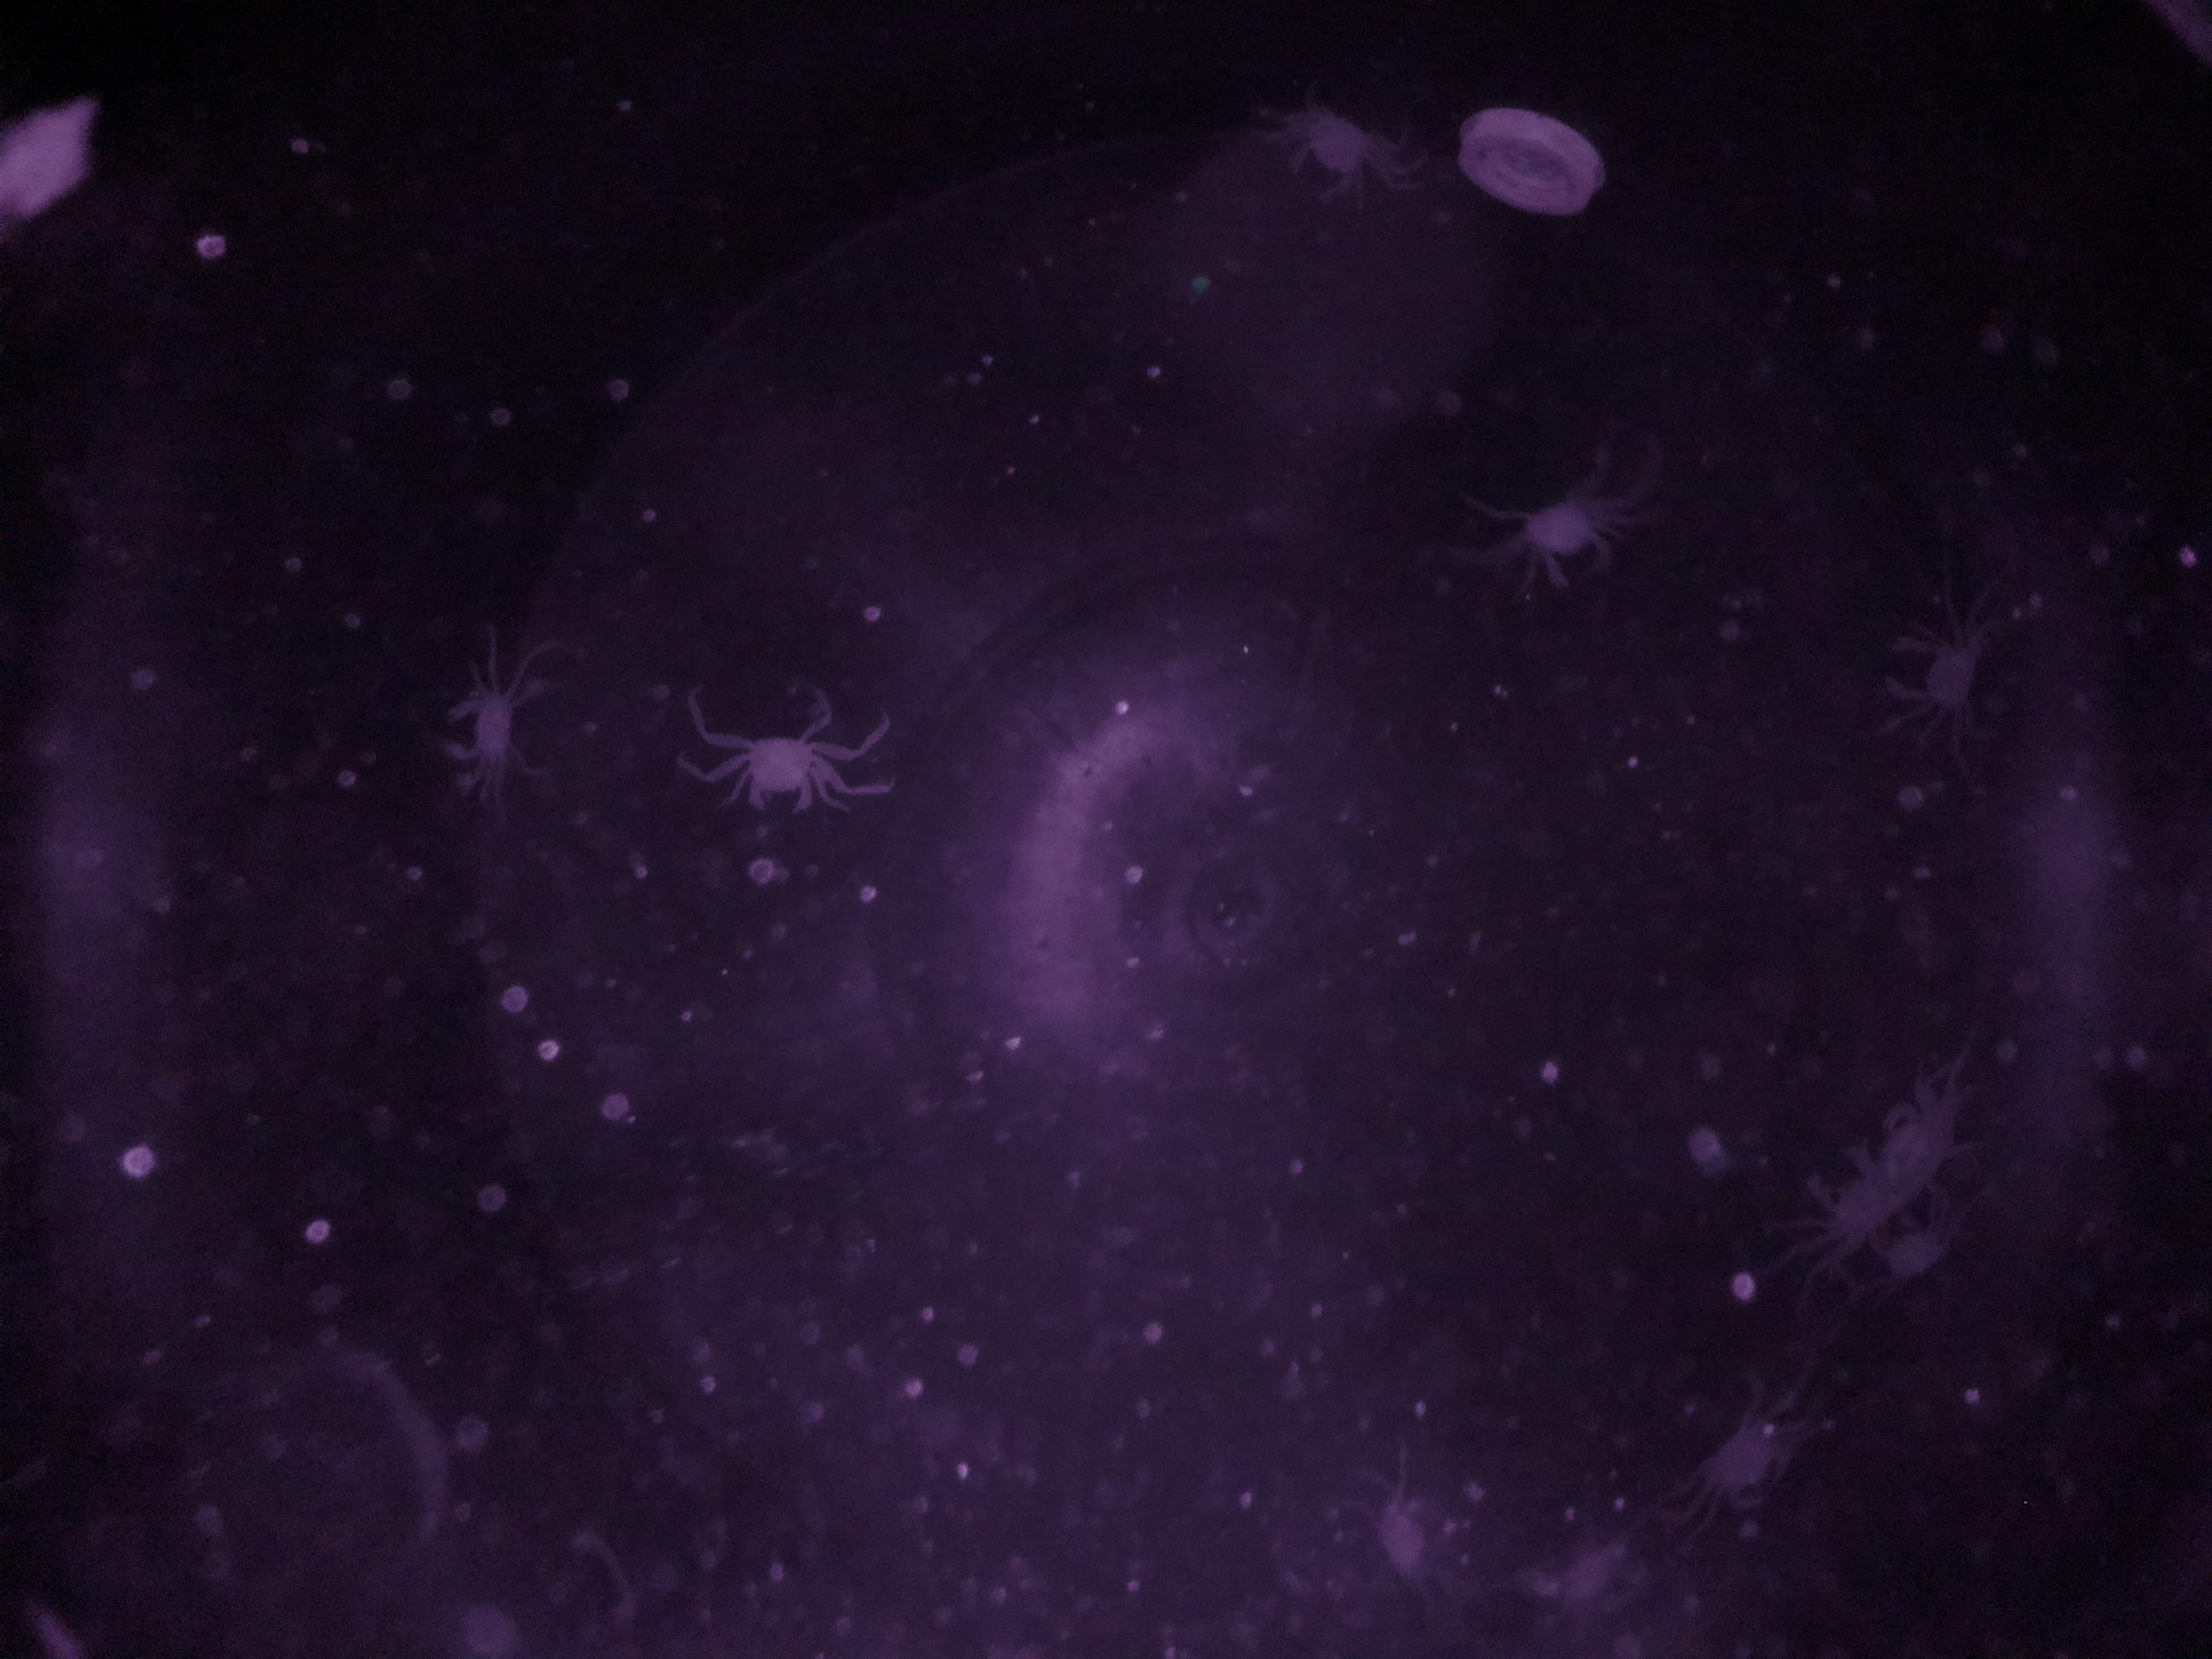Crab: (1514, 467, 1629, 610), (1278, 80, 1386, 216), (1693, 1408, 1810, 1527), (725, 709, 836, 828), (427, 678, 536, 786)
